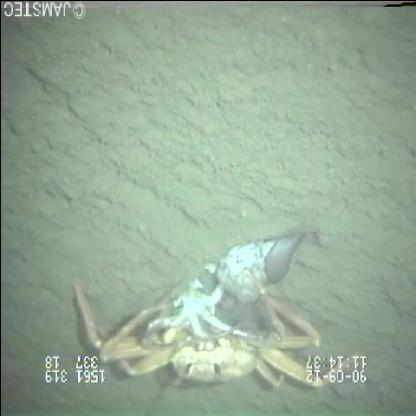Bio: (68, 217, 366, 395)
